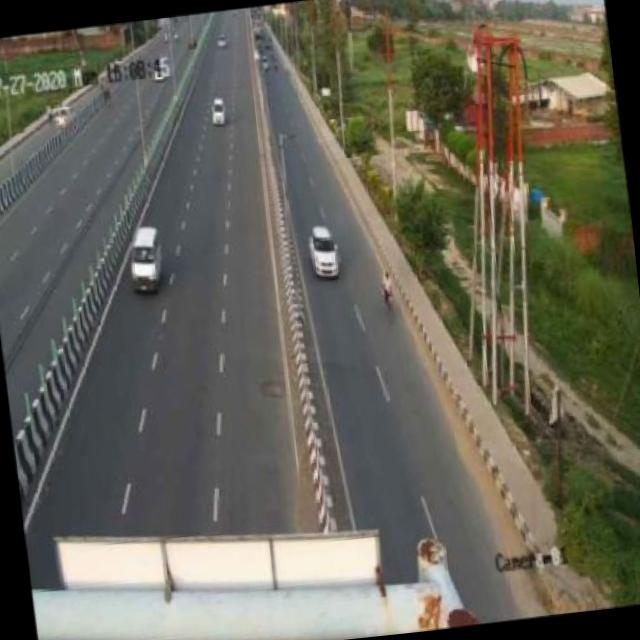car: (121, 219, 169, 300), (302, 220, 348, 281), (207, 93, 231, 132)
